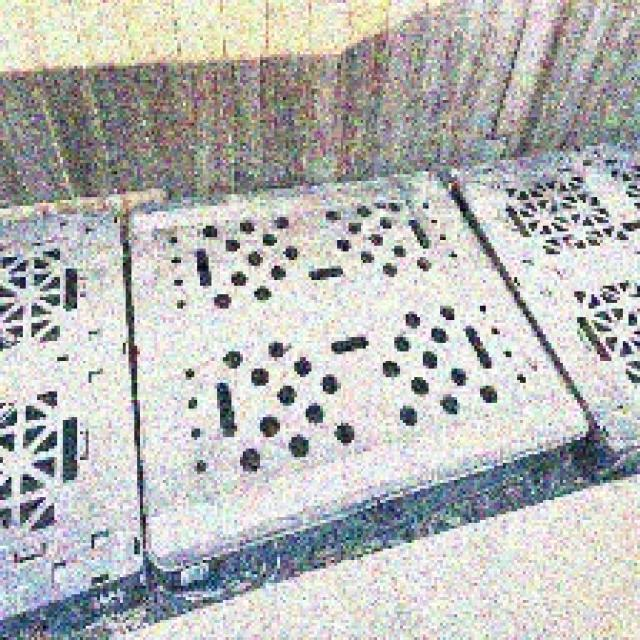igps: (123, 164, 596, 601), (443, 129, 640, 494), (0, 188, 157, 640)
